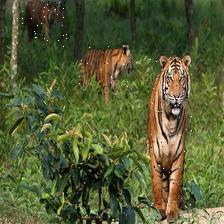tiger: (148, 57, 192, 219), (77, 46, 136, 97), (21, 2, 68, 48)
